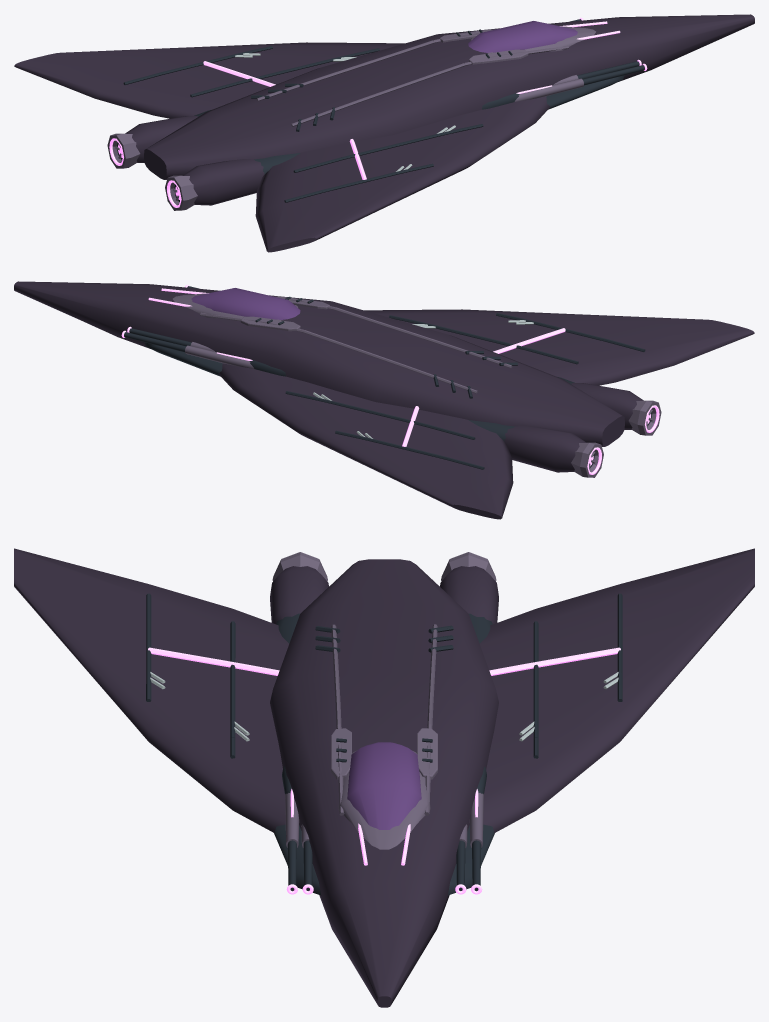
The model's file is spectre.glb.
3 renders of one model, top to bottom at view 1: azimuth 30°, elevation 25°; view 2: azimuth 150°, elevation 25°; view 3: azimuth 270°, elevation 25°, orthographic. The views are drawn at different scales.
Parts seen in each view (by area): view 1: hull Hull paint, wing Hull paint, hull Brushed panel alloy, wing Graphite heat armour, hull Smoked canopy, hull Graphite heat armour, engine Brushed panel alloy, mount Graphite heat armour, mount Brushed panel alloy, wing Hull guidance; view 2: hull Hull paint, wing Hull paint, hull Brushed panel alloy, wing Graphite heat armour, hull Smoked canopy, hull Graphite heat armour, engine Brushed panel alloy, mount Graphite heat armour, mount Brushed panel alloy, wing Hull guidance; view 3: wing Hull paint, hull Hull paint, hull Smoked canopy, hull Brushed panel alloy, hull Graphite heat armour, wing Graphite heat armour, mount Graphite heat armour, wing Hull guidance, mount Brushed panel alloy, engine Brushed panel alloy.
Boxes of the visible parts, box(x1,y1,x2,y2) form: hull Hull paint: box(125, 14, 754, 205); wing Hull paint: box(14, 42, 550, 252); hull Brushed panel alloy: box(256, 26, 595, 126); wing Graphite heat armour: box(123, 46, 483, 202); hull Smoked canopy: box(468, 21, 577, 52); hull Graphite heat armour: box(194, 29, 624, 174); engine Brushed panel alloy: box(107, 133, 197, 210); mount Graphite heat armour: box(482, 19, 644, 109); mount Brushed panel alloy: box(514, 75, 583, 101); wing Hull guidance: box(203, 61, 366, 179); hull Hull paint: box(14, 281, 643, 472); wing Hull paint: box(218, 309, 754, 519); hull Brushed panel alloy: box(173, 293, 512, 393); wing Graphite heat armour: box(285, 313, 645, 469); hull Smoked canopy: box(191, 288, 300, 319); hull Graphite heat armour: box(144, 296, 574, 441); engine Brushed panel alloy: box(571, 400, 661, 477); mount Graphite heat armour: box(124, 286, 285, 376); mount Brushed panel alloy: box(185, 342, 254, 368); wing Hull guidance: box(402, 328, 565, 446); wing Hull paint: box(14, 548, 754, 832); hull Hull paint: box(270, 559, 498, 1007); hull Smoked canopy: box(347, 742, 421, 829); hull Brushed panel alloy: box(331, 624, 437, 849); hull Graphite heat armour: box(274, 613, 494, 895); wing Graphite heat armour: box(146, 593, 622, 758); mount Graphite heat armour: box(282, 766, 486, 891); wing Hull guidance: box(148, 647, 620, 675); mount Brushed panel alloy: box(285, 793, 483, 847); engine Brushed panel alloy: box(272, 552, 496, 581).
Bounding box in the file's own units: 61.5 × 7.4 × 44.
